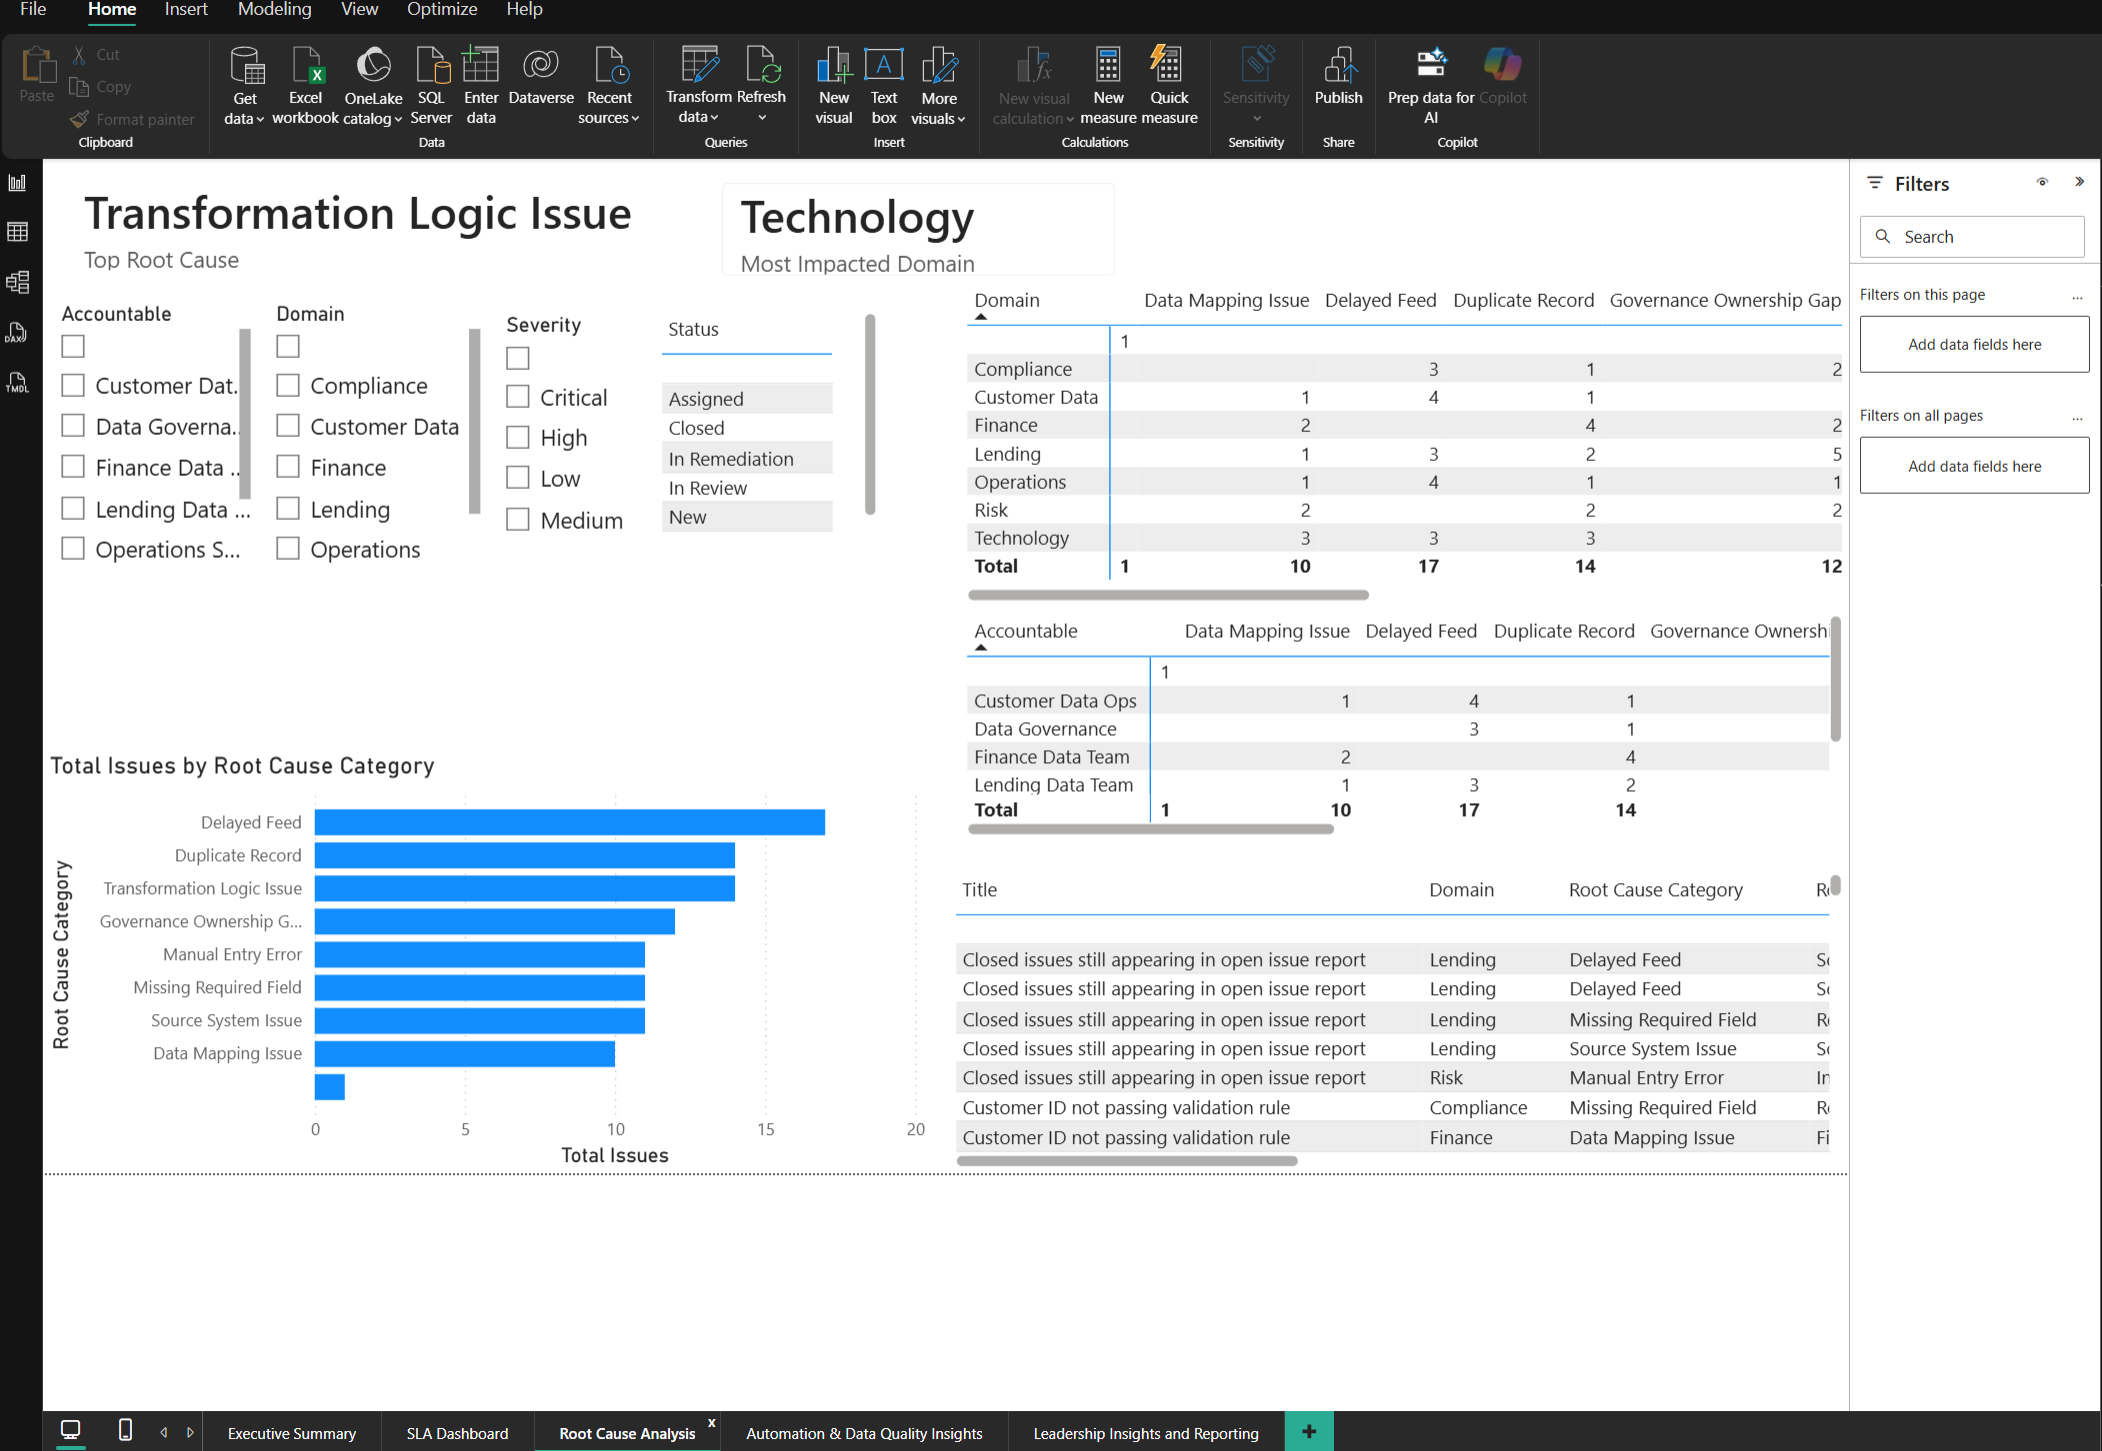

What the dashboard file says about the page in this screenshot:
{"tool":"powerbi","page":{"name":"Root Cause Analysis ","canvas":[1280,720],"ordinal":2},"visuals":[{"type":"cardVisual","fields":{"Data":["Data Problems.Top Root Cause"]},"box":[0,0,466.9,96.1],"z":0},{"type":"cardVisual","fields":{"Data":["Data Problems.Most Impacted Domain"]},"box":[467.4,0,310.9,95.9],"z":1000},{"type":"clusteredBarChart","fields":{"Category":["Data Problems.Root Cause Category"],"Y":["Data Problems.Total Issues"]},"box":[0,419.8,630.4,300.2],"z":2000},{"type":"pivotTable","fields":{"Rows":["Data Problems.Domain"],"Columns":["Data Problems.Root Cause Category"],"Values":["Data Problems.Total Issues"]},"box":[650.1,105,629.9,214],"z":3000},{"type":"pivotTable","fields":{"Rows":["Data Problems.Accountable"],"Columns":["Data Problems.Root Cause Category"],"Values":["Data Problems.Total Issues"]},"box":[650,319.1,629.8,166.1],"z":4000},{"type":"tableEx","fields":{"Values":["Data Problems.Title ","Data Problems.Domain","Data Problems.Root Cause Category","Data Problems.Root Cause Descripton","Data Problems.Accountable","Data Problems.Status","Data Problems.Target Date.Variation.Date Hierarchy.Year","Data Problems.Target Date.Variation.Date Hierarchy.Quarter","Data Problems.Target Date.Variation.Date Hierarchy.Month","Data Problems.Target Date.Variation.Date Hierarchy.Day"]},"box":[640.2,502.2,639.6,217.8],"z":5000},{"type":"slicer","fields":{"Values":["Data Problems.Accountable"]},"box":[0,108,195.8,211],"z":6000},{"type":"slicer","fields":{"Values":["Data Problems.Domain"]},"box":[195.8,108,172.6,211],"z":7000},{"type":"slicer","fields":{"Values":["Data Problems.Severity"]},"box":[368.5,108,128.2,211],"z":8000},{"type":"tableEx","fields":{"Values":["Data Problems.Status"]},"box":[496.7,105,153.4,214],"z":9000}]}

Visuals, with their boxes on the page's 1280x720 design canvas (x1, y1, x2, y2). These are canvas units, not pixel positions in the 2102x1451 screenshot, which may show the page scaled, cropped or inside an application window:
cardVisual - Data Problems.Top Root Cause: locate(0, 0, 467, 96)
cardVisual - Data Problems.Most Impacted Domain: locate(467, 0, 778, 96)
clusteredBarChart - Data Problems.Root Cause Category x Data Problems.Total Issues: locate(0, 420, 630, 720)
pivotTable - Data Problems.Domain x Data Problems.Root Cause Category: locate(650, 105, 1280, 319)
pivotTable - Data Problems.Accountable x Data Problems.Root Cause Category: locate(650, 319, 1280, 485)
tableEx - Data Problems.Title  x Data Problems.Domain: locate(640, 502, 1280, 720)
slicer - Data Problems.Accountable: locate(0, 108, 196, 319)
slicer - Data Problems.Domain: locate(196, 108, 368, 319)
slicer - Data Problems.Severity: locate(368, 108, 497, 319)
tableEx - Data Problems.Status: locate(497, 105, 650, 319)
